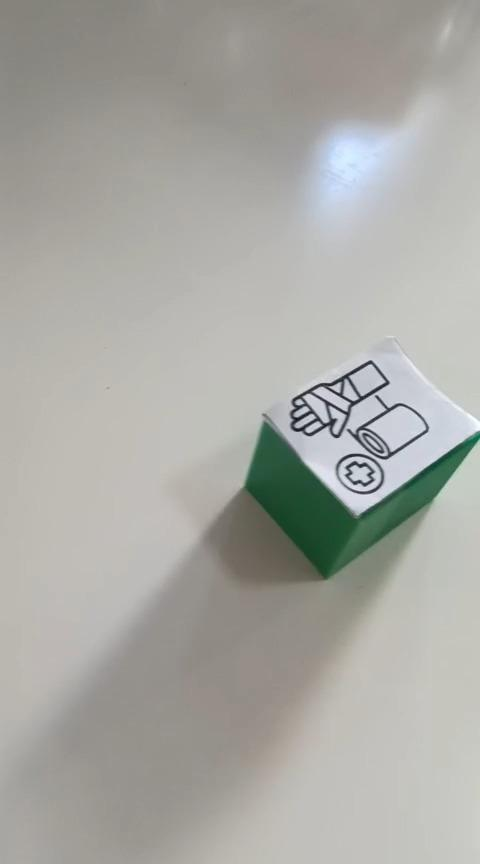Bandages: (242, 334, 479, 579)
